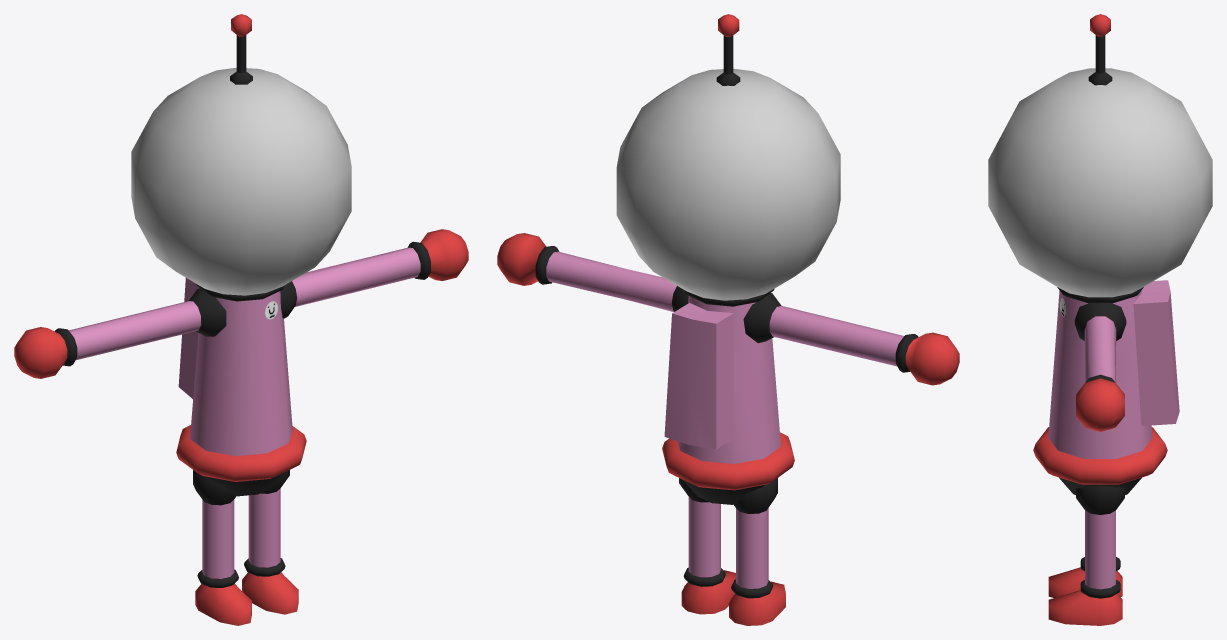
The model's file is personajeV7.fbx.
3 views of the same model, side by side, from view 1: azimuth 30°, elevation 25°; view 2: azimuth 150°, elevation 25°; view 3: azimuth 270°, elevation 25° (orthographic).
Parts seen in each view (by area): view 1: Helmet, Body, LeftArm, RightArm, LeftLeg, RightLeg, Cosita; view 2: Helmet, Body, LeftArm, RightArm, LeftLeg, RightLeg, Cosita; view 3: Helmet, Body, RightLeg, RightArm, Cosita, LeftLeg.
Part boxes in pixels (x1,y1,x2,y2): Helmet: (131,67,351,295); Body: (176,278,306,496); LeftArm: (14,288,226,378); RightArm: (280,229,468,318); LeftLeg: (193,470,251,625); RightLeg: (242,470,298,614); Cosita: (230,14,252,84); Helmet: (616,68,840,300); Body: (662,288,794,504); LeftArm: (743,293,959,385); RightArm: (497,233,688,311); LeftLeg: (729,478,785,625); RightLeg: (679,478,735,614); Cosita: (716,14,740,85); Helmet: (988,68,1212,297); Body: (1033,280,1179,494); RightLeg: (1048,485,1124,625); RightArm: (1074,302,1126,431); Cosita: (1088,14,1112,85); LeftLeg: (1048,557,1122,597).
Bounding box in the file's own units: 9.78 × 12.23 × 4.21.
